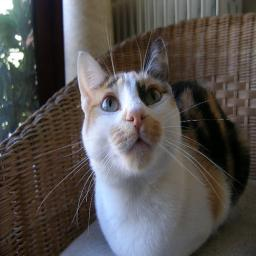catnose: (126, 108, 148, 130)
